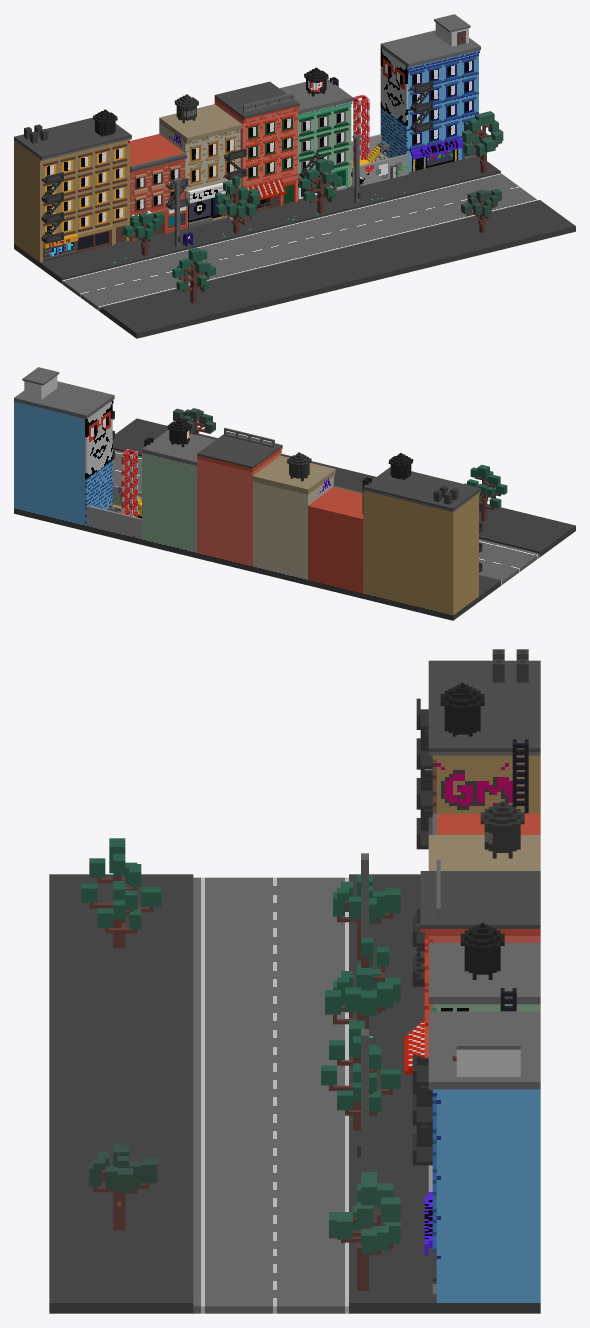
The model's file is nountoun.glb.
3 renders of one model, top to bottom at view 1: azimuth 30°, elevation 25°; view 2: azimuth 150°, elevation 25°; view 3: azimuth 270°, elevation 25°, orthographic. The views are drawn at different scales.
Parts seen in each view (by area): view 1: Union_142; view 2: Union_142; view 3: Union_142.
Boxes of the visible parts, x1,y1,x2,y2 form: Union_142: [14, 14, 575, 338]; Union_142: [14, 367, 575, 620]; Union_142: [49, 649, 540, 1313].
Size of the model in its own units: 257 by 75 by 123.
1 material, 1 textured.
